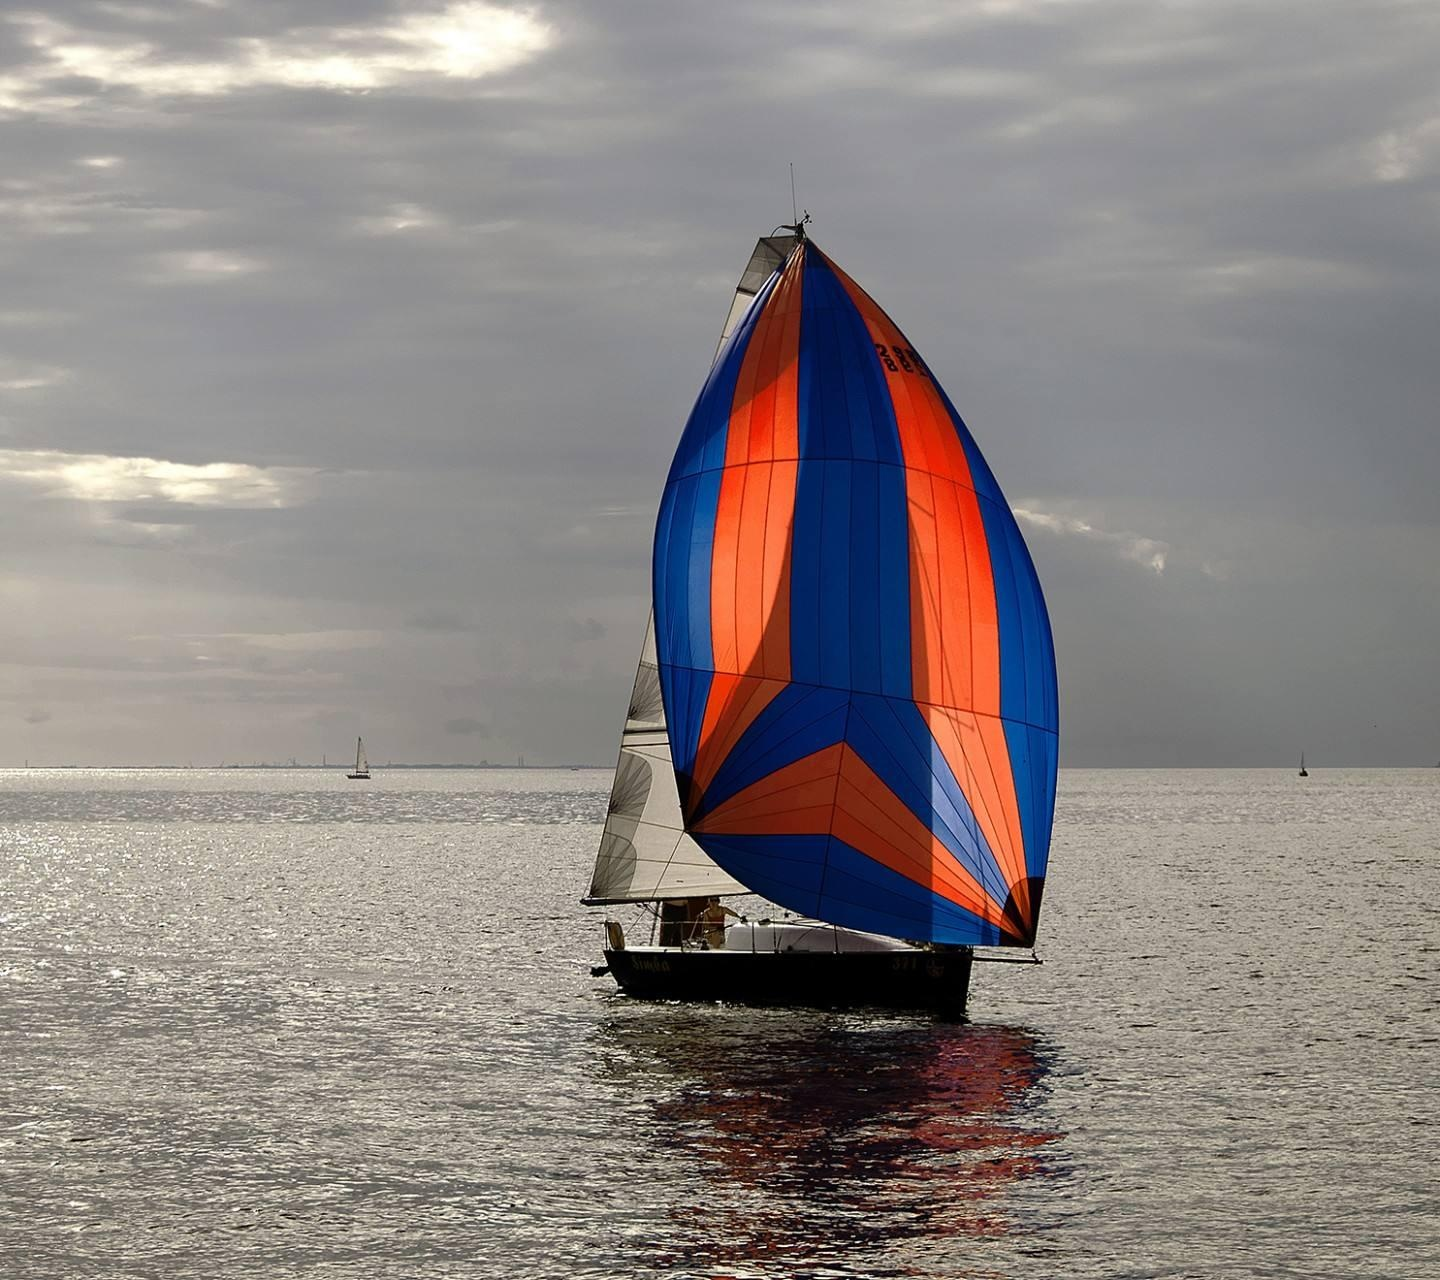fanchuan: (584, 175, 1057, 1014)
